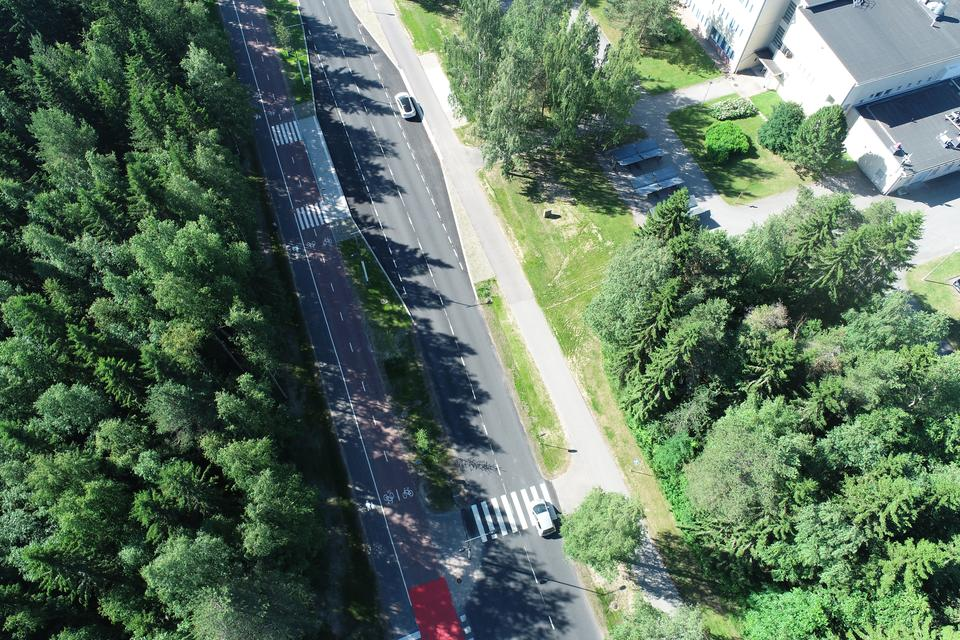intersection: (323, 444, 675, 562)
